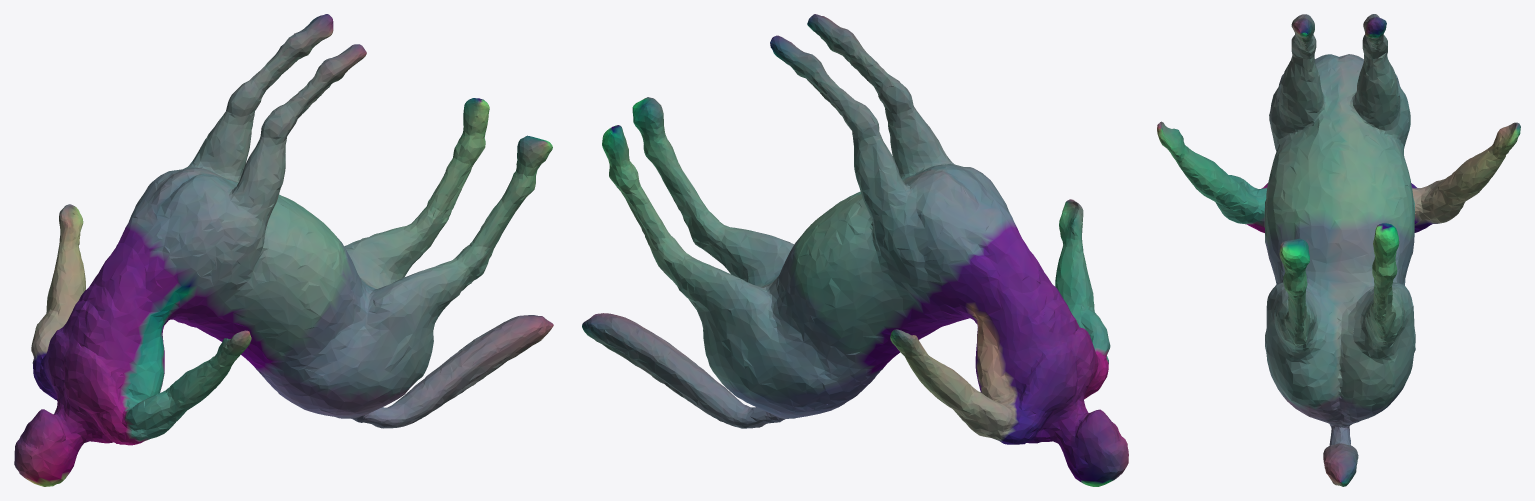
File: centaur-10.off.obj
3 renders of one model, left to right at view 1: azimuth 30°, elevation 25°; view 2: azimuth 150°, elevation 25°; view 3: azimuth 270°, elevation 25°, orthographic. The views are drawn at different scales.
Size of the model in its own units: 1.53 by 1.13 by 0.8773.
